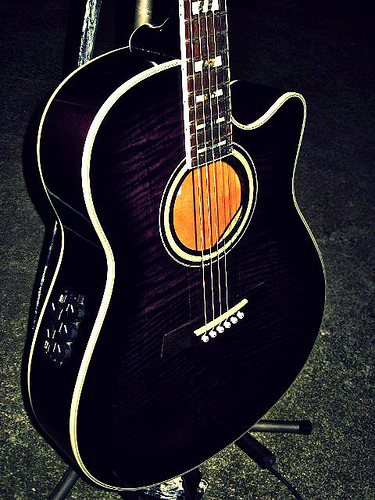guitar: (18, 1, 327, 493)
